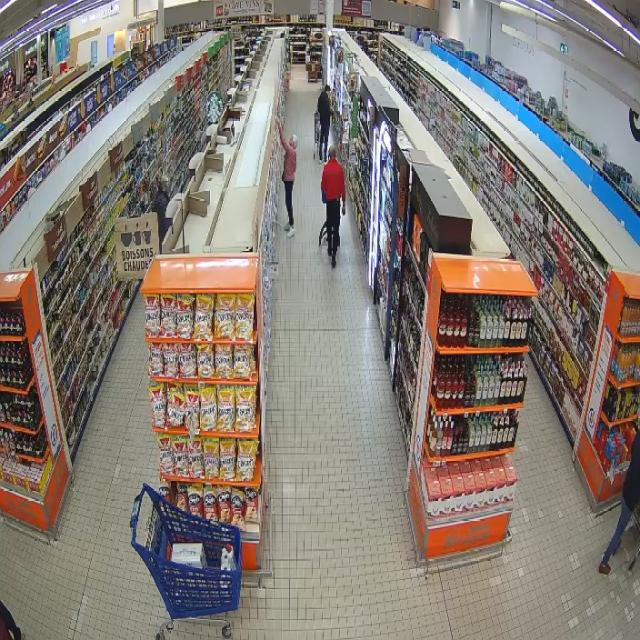hands: (342, 202, 346, 216), (276, 119, 281, 130)
person: (599, 436, 639, 574), (321, 146, 345, 266), (277, 121, 297, 237), (151, 175, 171, 252), (318, 85, 331, 162)
